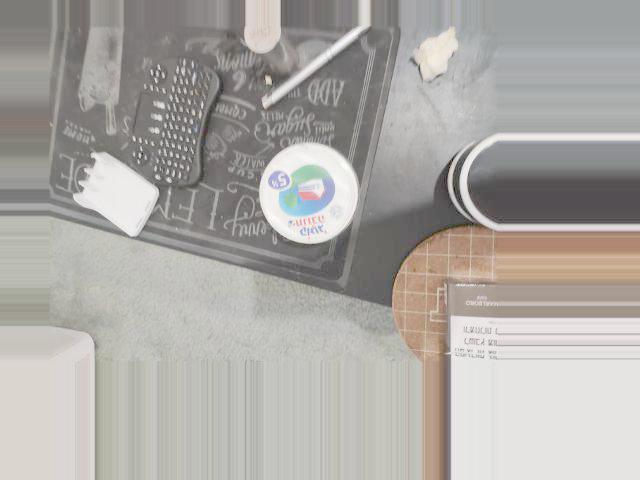cotage: (254, 140, 363, 262)
